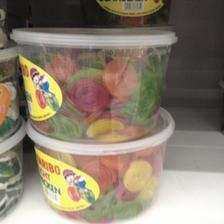Suessigkeit: (9, 25, 177, 142), (24, 126, 174, 222)
